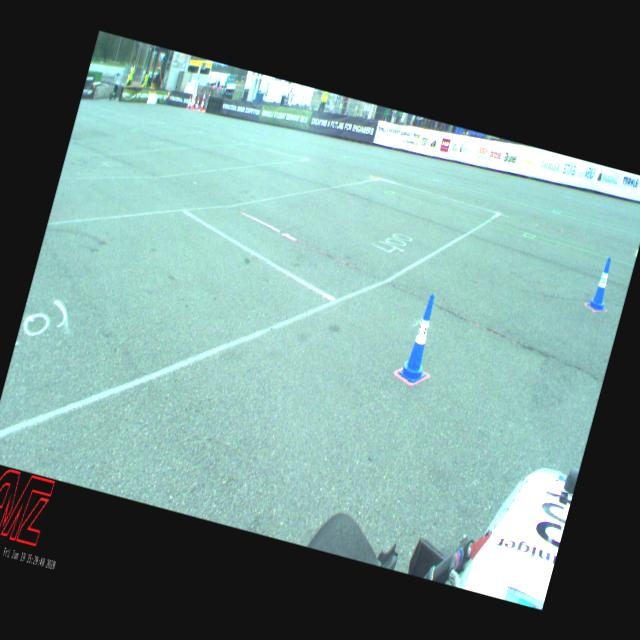blue_cone: (396, 290, 444, 384), (586, 256, 618, 312)
large_orange_cone: (199, 90, 207, 111), (191, 93, 197, 109)
orange_cone: (186, 95, 191, 108), (195, 97, 200, 110)
